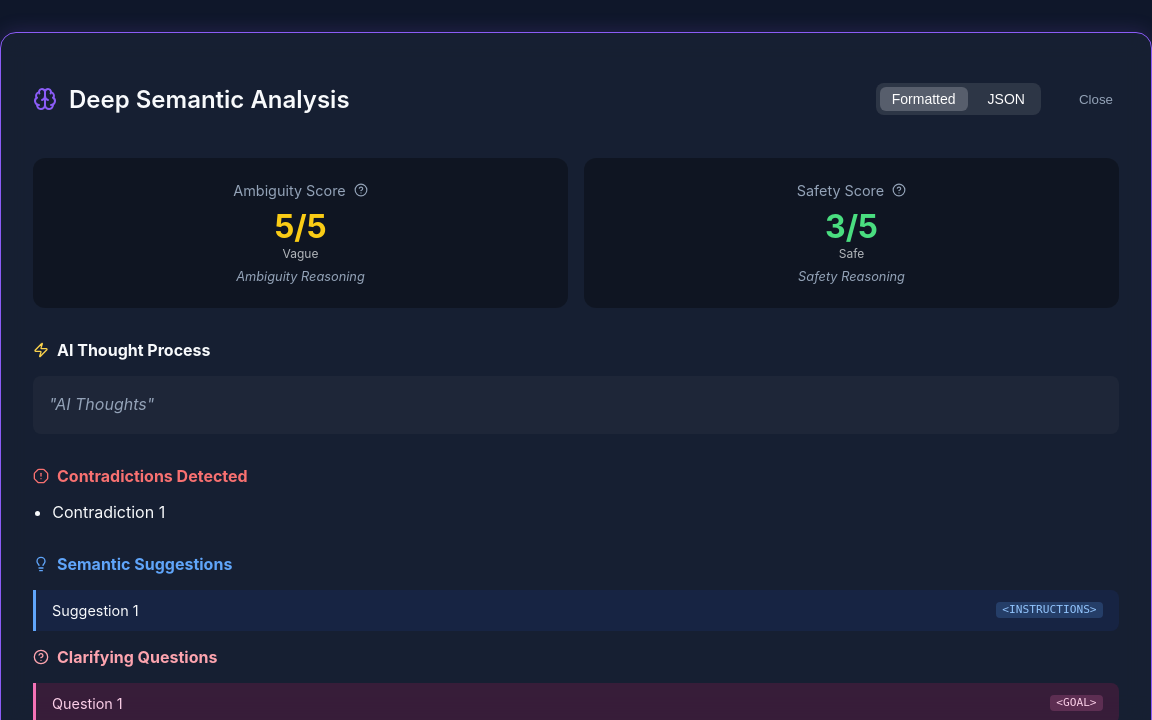
Test: DeepAnalysisResults Component › toggles to JSON view and shows Vertex payload by default
// Find button specifically
Click the button "JSON" at (1006, 99), box [976,87,1037,111]
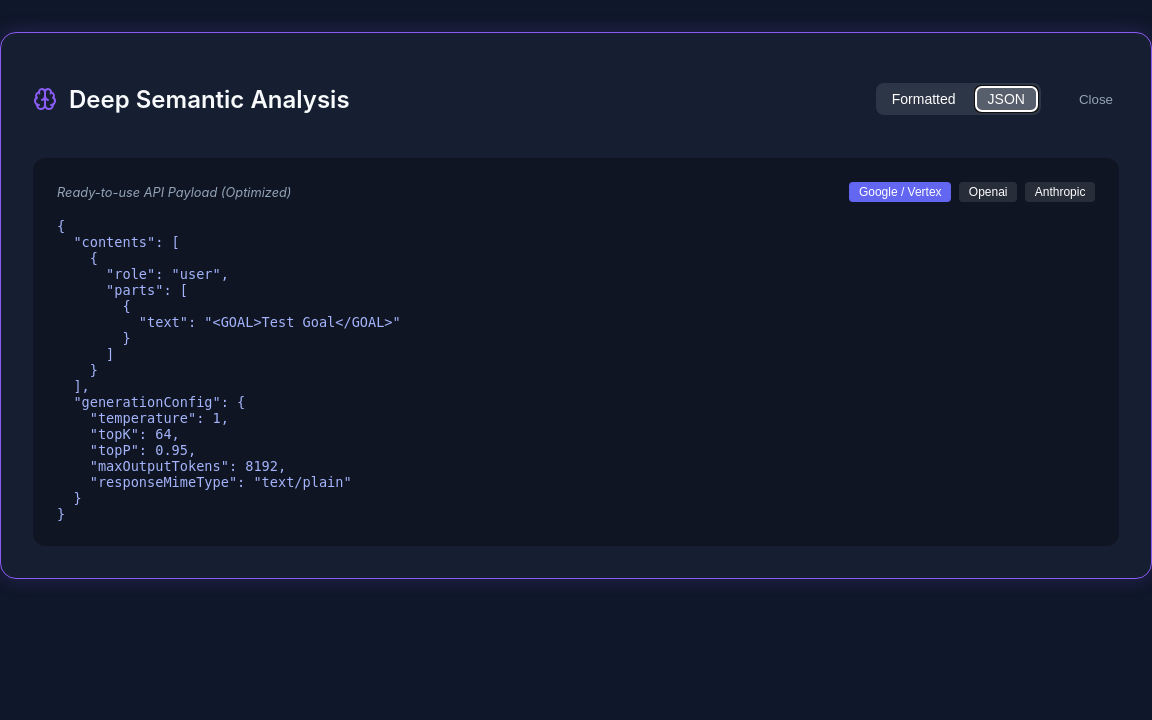
Check: the text "\"contents\"" is shown, box [57,218,401,522]
